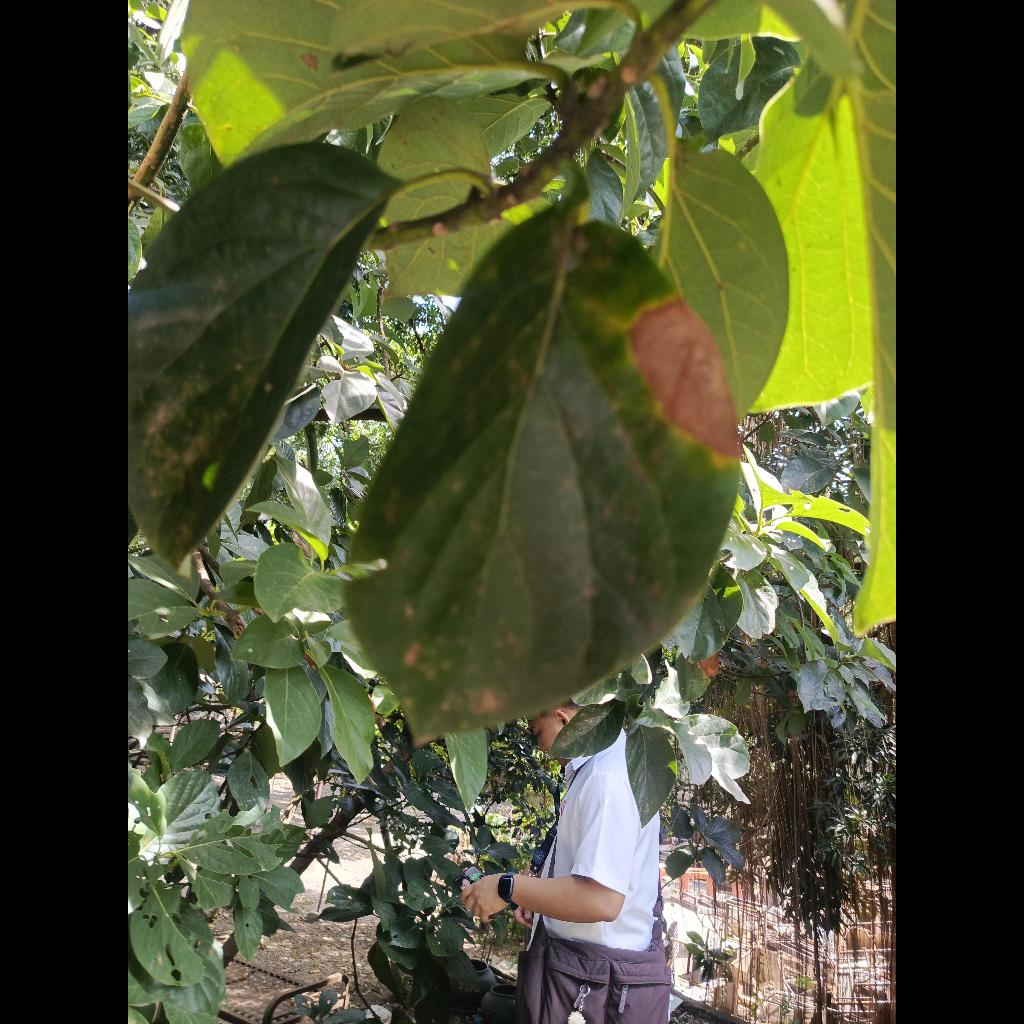antracnosis_hoja: (347, 202, 739, 740)
